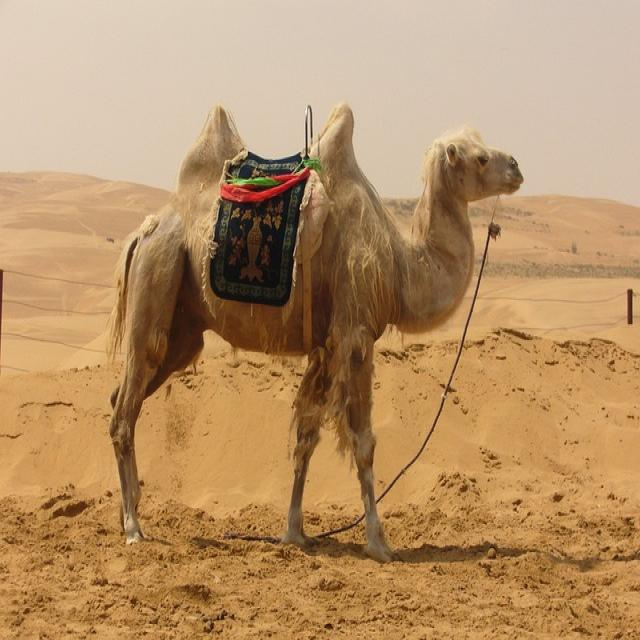Herbivorous: (108, 103, 523, 565)
